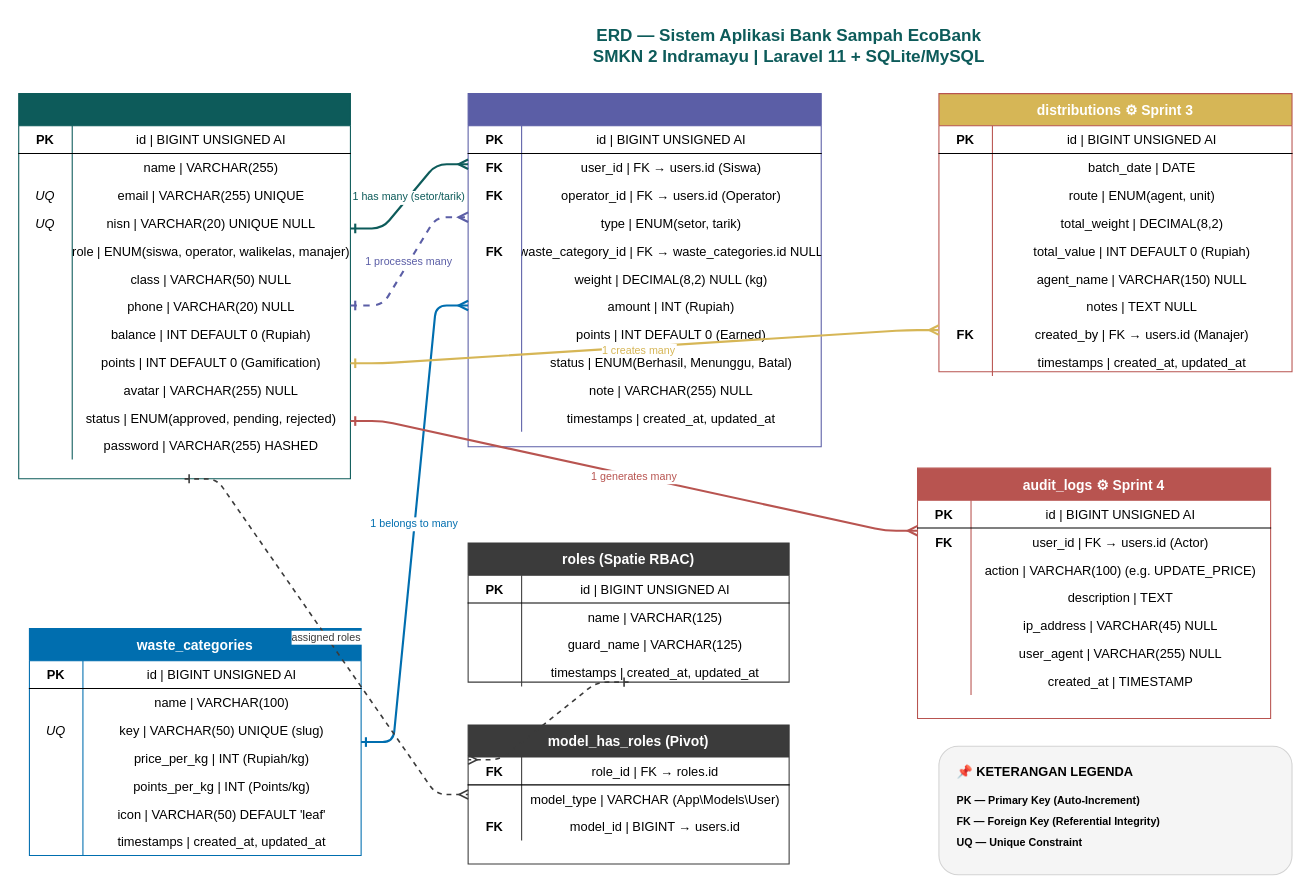
Image size: 1311x893. Some labels were removed from this diagram. Each missing label, with the box of its shape:
transactions: (467, 93, 821, 447)
users: (18, 93, 350, 479)
